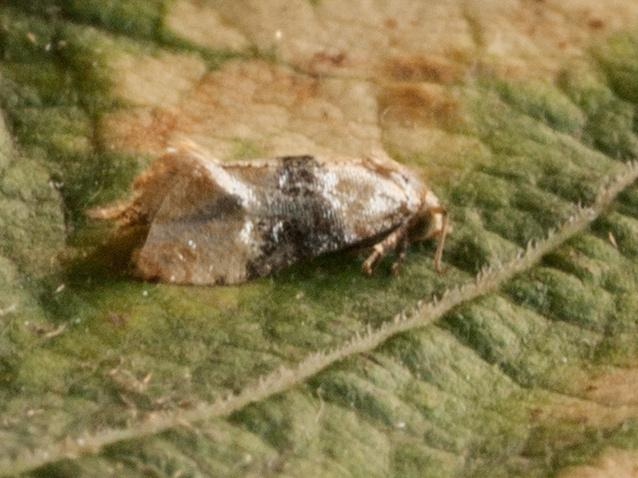Eupoecilia Ambiguella: (88, 139, 449, 287)
